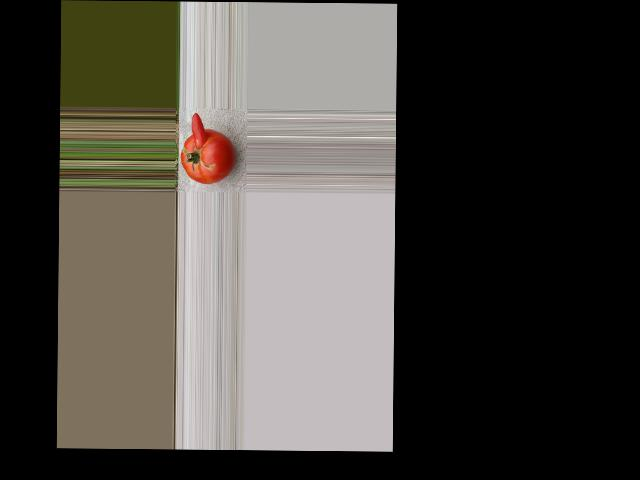tomato: (180, 128, 234, 185)
